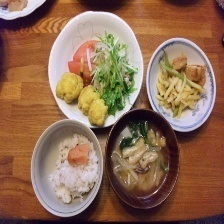rice: (47, 132, 100, 205)
